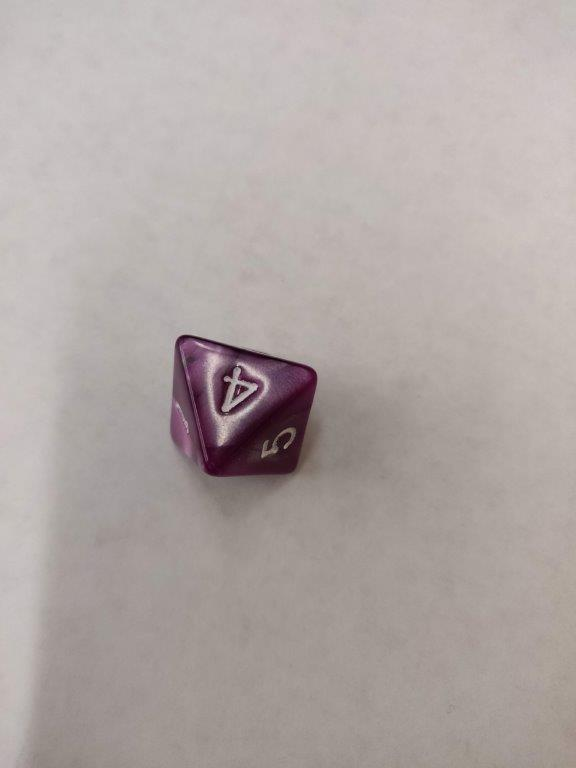d8-4: (168, 332, 320, 483)
